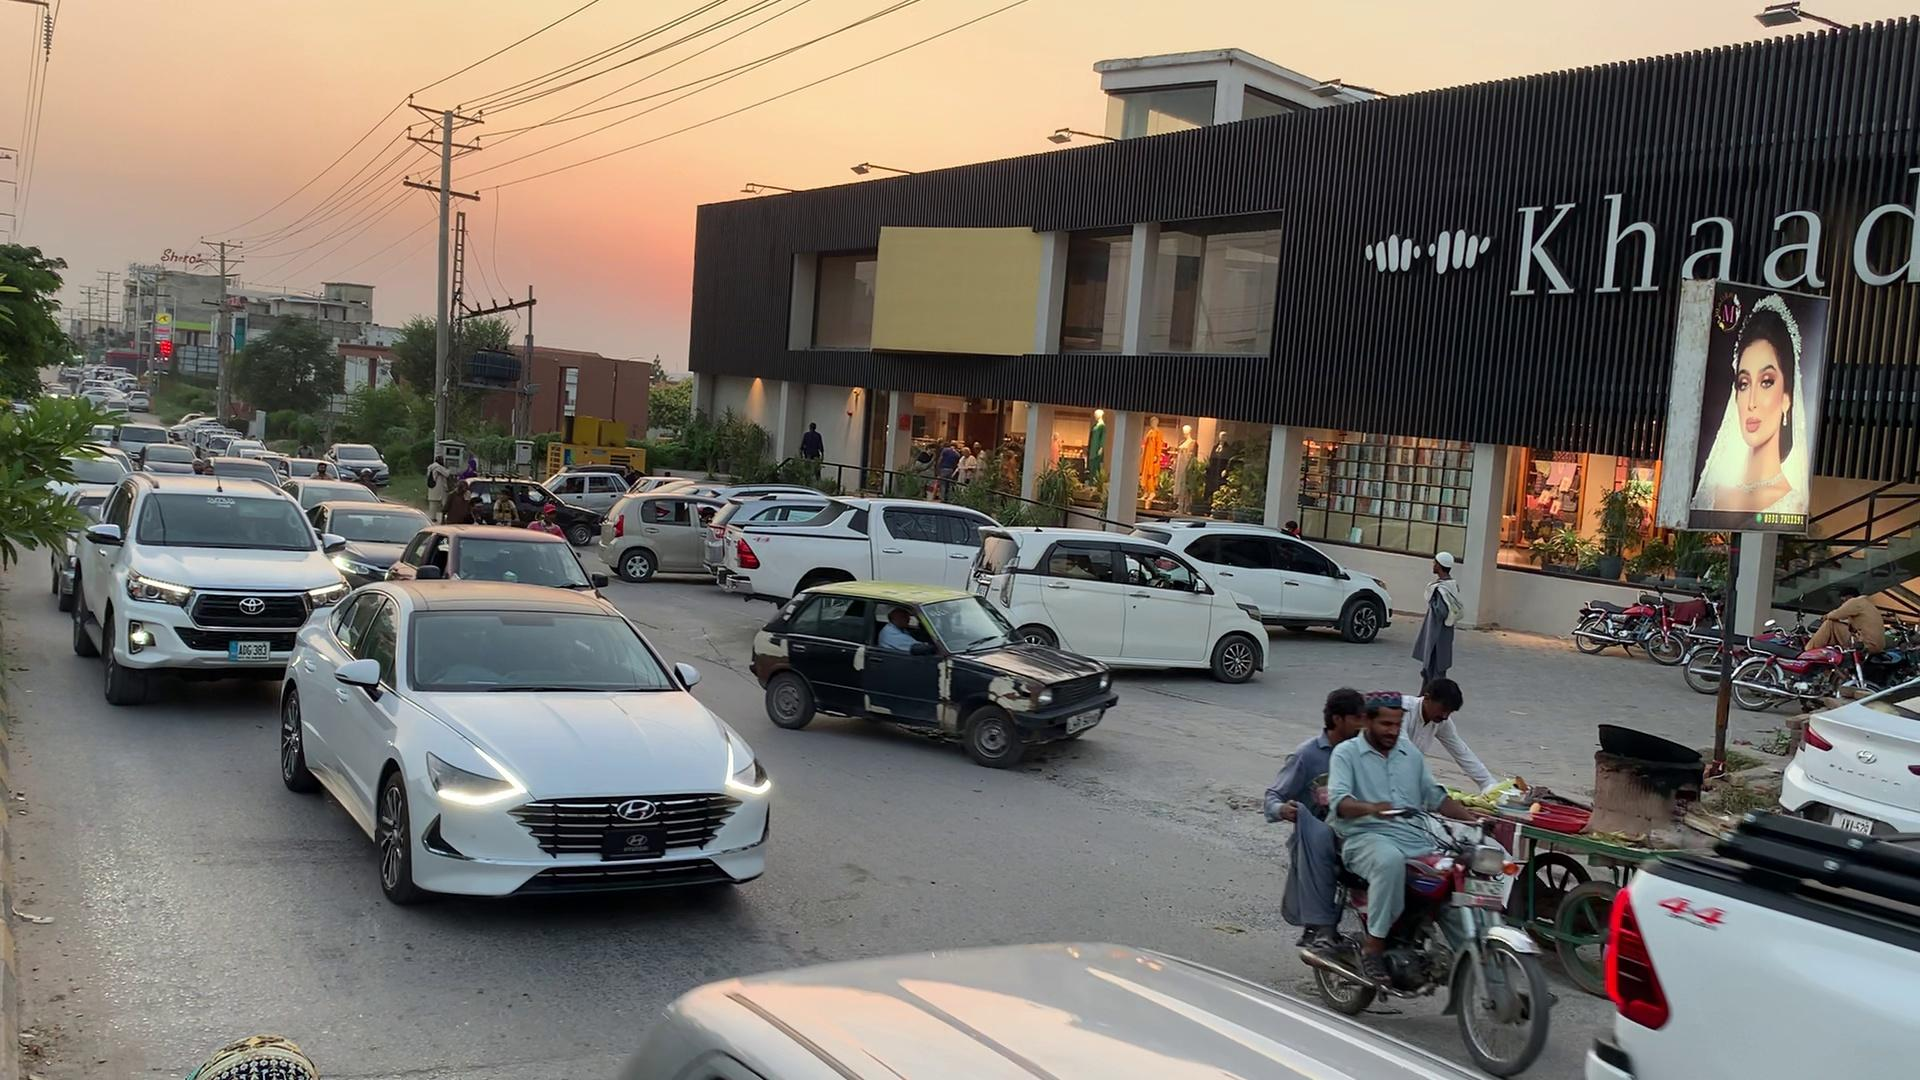windshield: (397, 587, 691, 720), (129, 488, 319, 562)
